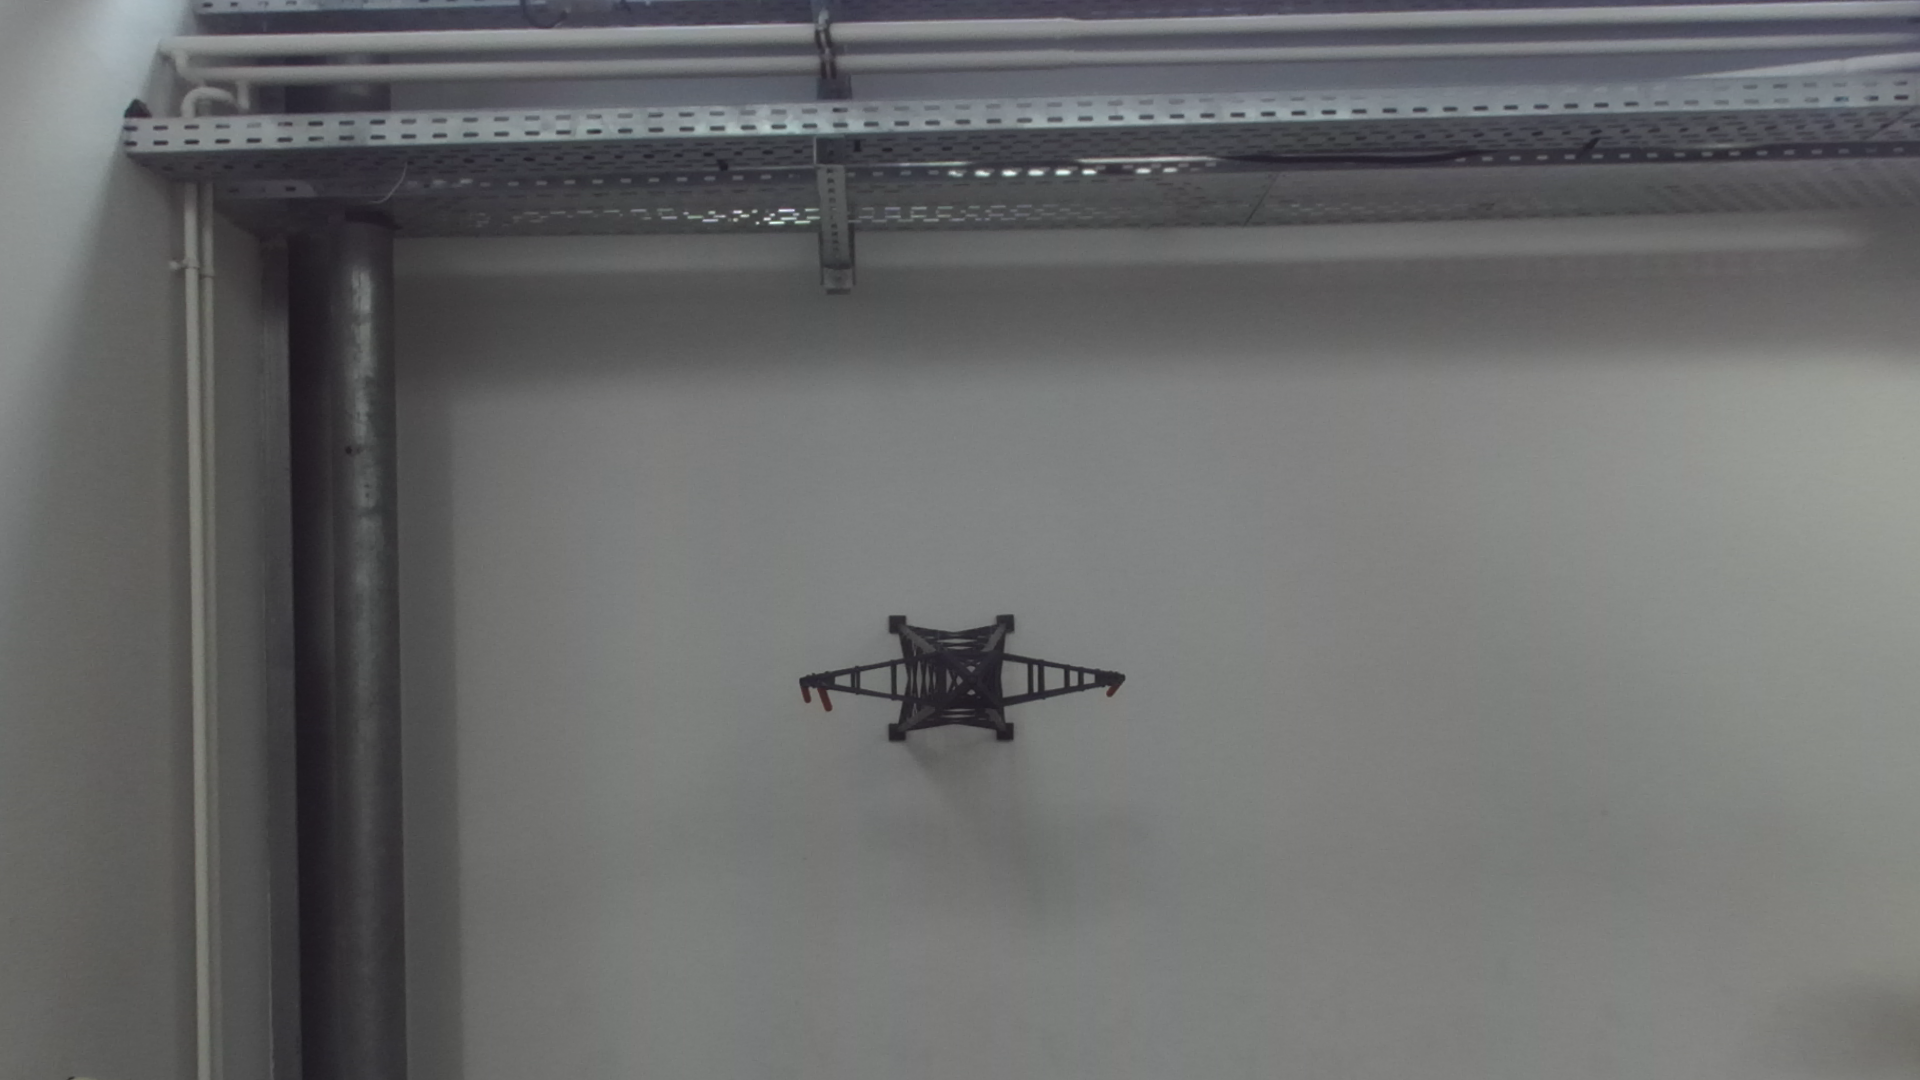pylon_phy: (798, 650, 1129, 703)
